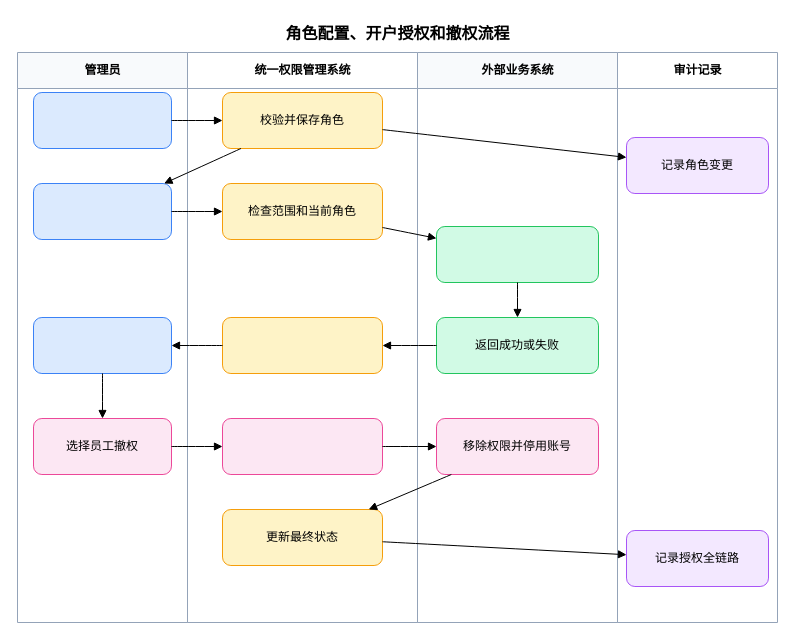
Some shapes in this 795 by 640 pixel diagram are drawn without their labels. Each missing label, with the centre of its shape:
建立撤权任务: pixel 302 446
开户或更新角色: pixel 517 254
更新同步状态: pixel 302 345
查看逐人结果: pixel 102 345
选择员工和角色: pixel 102 211
配置角色及权限: pixel 102 120
